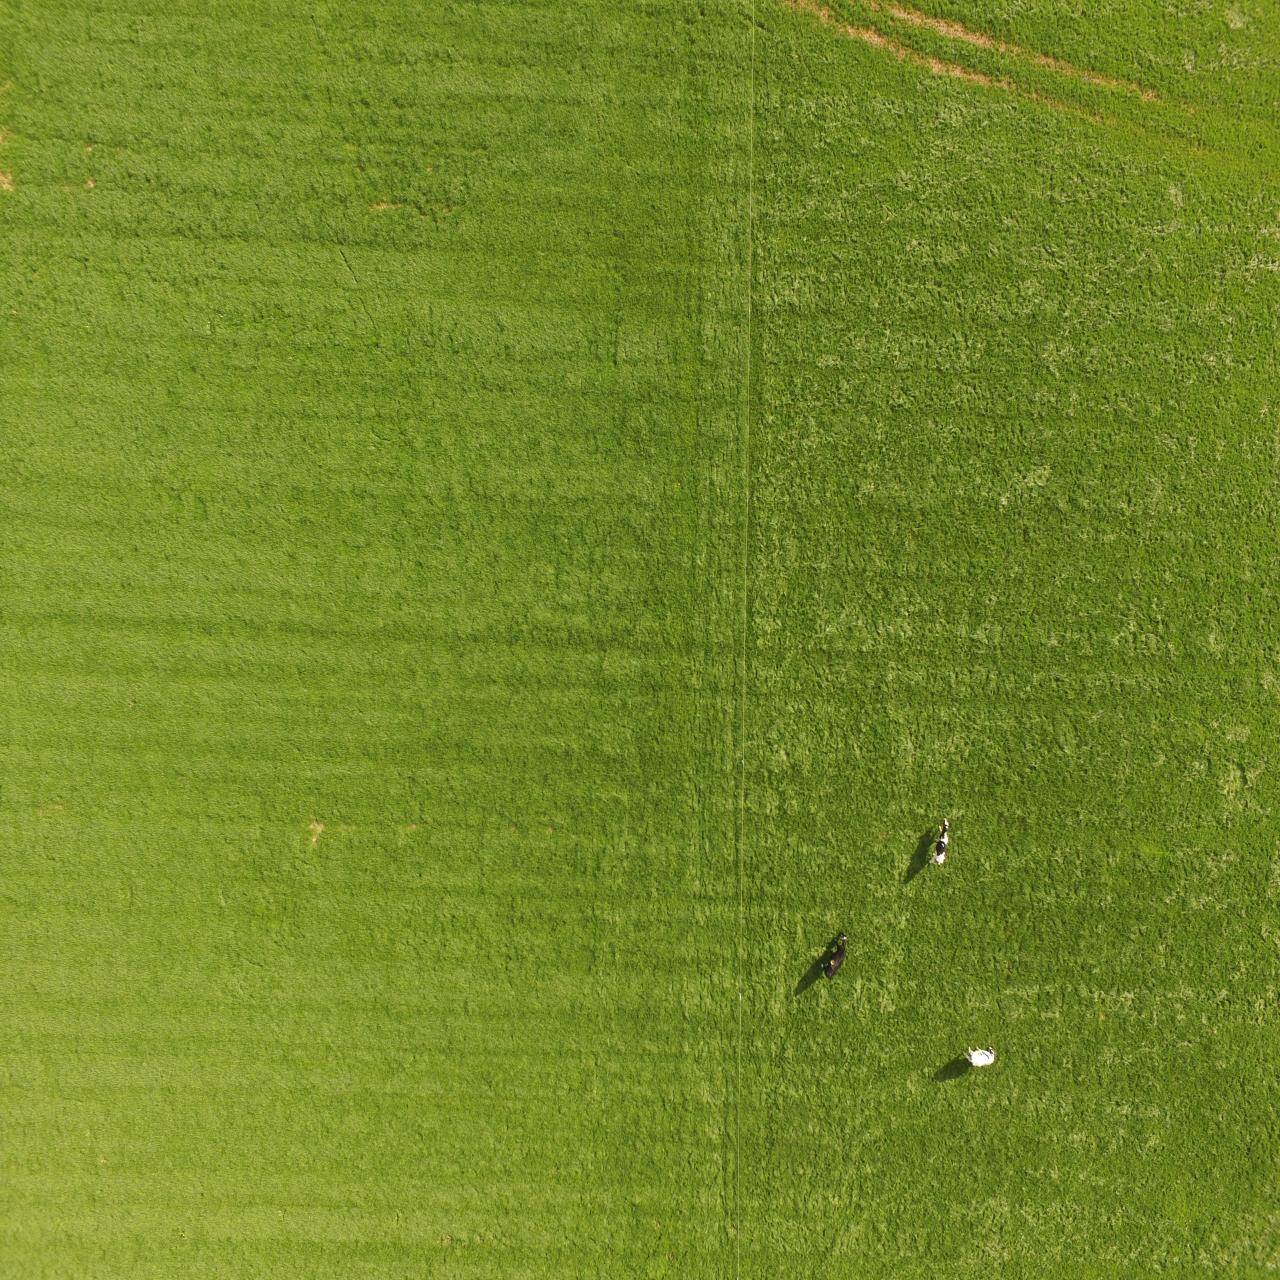cow: (822, 930, 850, 981), (932, 815, 952, 865), (962, 1043, 998, 1068)
